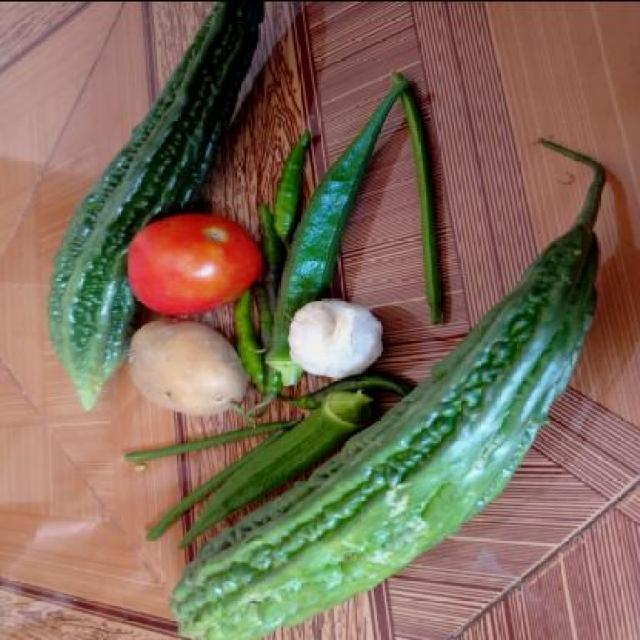Bitter melon: (378, 236, 606, 498), (186, 495, 471, 631), (52, 146, 132, 360)
Garlic: (288, 302, 384, 376)
Lady finger: (284, 81, 400, 286)
Potato: (129, 323, 249, 419)
Tomato: (129, 204, 265, 310)
